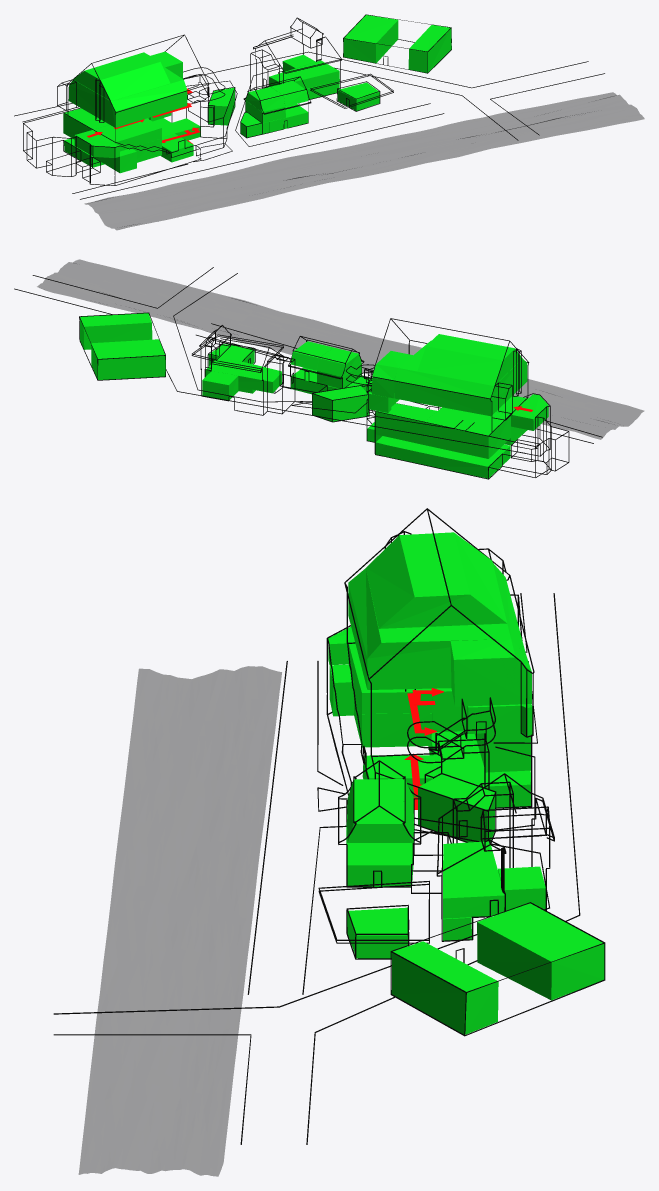
File: Dynamo_Areal.gltf
3 views of the same model, one above another, from view 1: azimuth 30°, elevation 25°; view 2: azimuth 150°, elevation 25°; view 3: azimuth 270°, elevation 25° (orthographic). The views are drawn at different scales.
Parts seen in each view (by area): view 1: River, outlines, Saal, Tanzdach, NurbsPath, Buro, Medien, Werk21, Sitzungsraum, Projekt, Metalli, Digital (+6 smaller); view 2: River, outlines, Saal, Probebuehne, Tanzdach, Werk21, Medien, Sitzungsraum, NurbsPath, Projekt, Foto, Digital (+5 smaller); view 3: River, Saal, outlines, Tanzdach, Medien, Projekt, Werk21, NurbsPath, Digital, Sitzungsraum, Foto, Textil (+7 smaller).
Boxes of the visible parts, left/top/right/bottom form: River: left=85, top=92, right=644, bottom=229; outlines: left=23, top=14, right=451, bottom=185; Saal: left=68, top=51, right=187, bottom=127; Tanzdach: left=73, top=52, right=170, bottom=100; NurbsPath: left=14, top=51, right=604, bottom=199; Buro: left=74, top=118, right=161, bottom=157; Medien: left=343, top=15, right=398, bottom=63; Werk21: left=64, top=118, right=200, bottom=167; Sitzungsraum: left=245, top=81, right=308, bottom=122; Projekt: left=408, top=25, right=451, bottom=72; Metalli: left=307, top=81, right=379, bottom=110; Digital: left=269, top=60, right=339, bottom=89; River: left=37, top=259, right=643, bottom=439; outlines: left=79, top=312, right=569, bottom=479; Saal: left=372, top=340, right=527, bottom=416; Probebuehne: left=375, top=403, right=511, bottom=458; Tanzdach: left=417, top=334, right=522, bottom=385; Werk21: left=367, top=422, right=510, bottom=478; Medien: left=91, top=339, right=165, bottom=379; Sitzungsraum: left=290, top=341, right=361, bottom=388; NurbsPath: left=14, top=267, right=602, bottom=453; Projekt: left=80, top=313, right=152, bottom=349; Foto: left=312, top=386, right=368, bottom=421; Digital: left=205, top=356, right=281, bottom=393; River: left=79, top=666, right=281, bottom=1176; Saal: left=348, top=563, right=531, bottom=706; outlines: left=318, top=508, right=605, bottom=1036; Tanzdach: left=366, top=532, right=507, bottom=628; Medien: left=477, top=903, right=604, bottom=1000; Projekt: left=391, top=941, right=498, bottom=1034; Werk21: left=362, top=731, right=530, bottom=807; NurbsPath: left=53, top=593, right=580, bottom=1144; Digital: left=443, top=841, right=504, bottom=918; Sitzungsraum: left=346, top=779, right=413, bottom=842; Foto: left=418, top=774, right=494, bottom=842; Textil: left=329, top=664, right=431, bottom=747.
Bounding box in the file's own units: 37.77 × 7.47 × 17.25.
